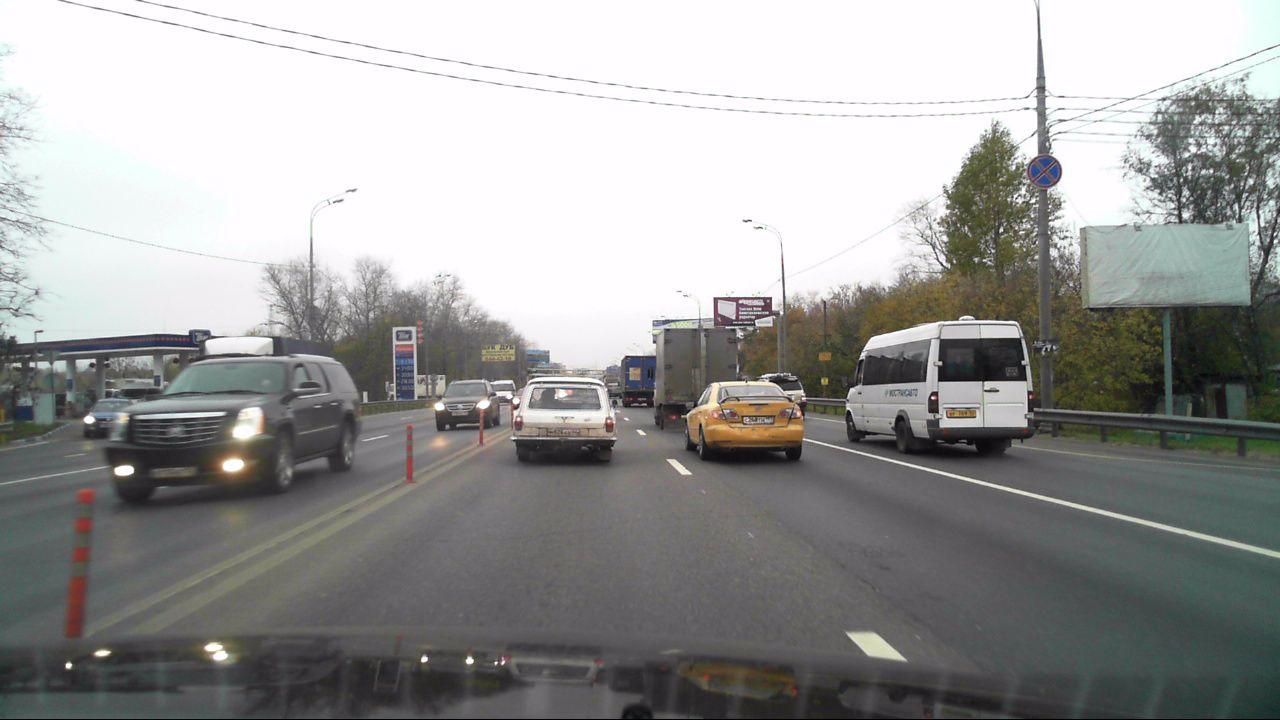No Parking: (1027, 156, 1064, 189)
